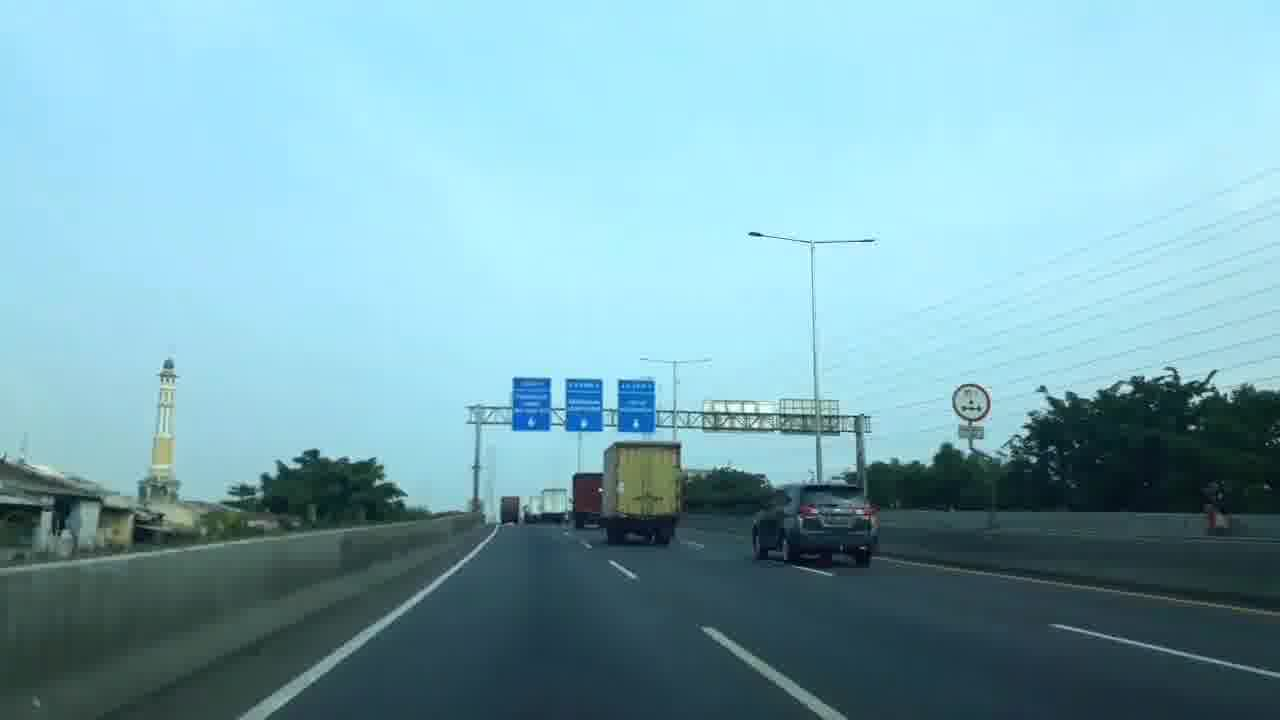plate_positive: (824, 515, 850, 525)
